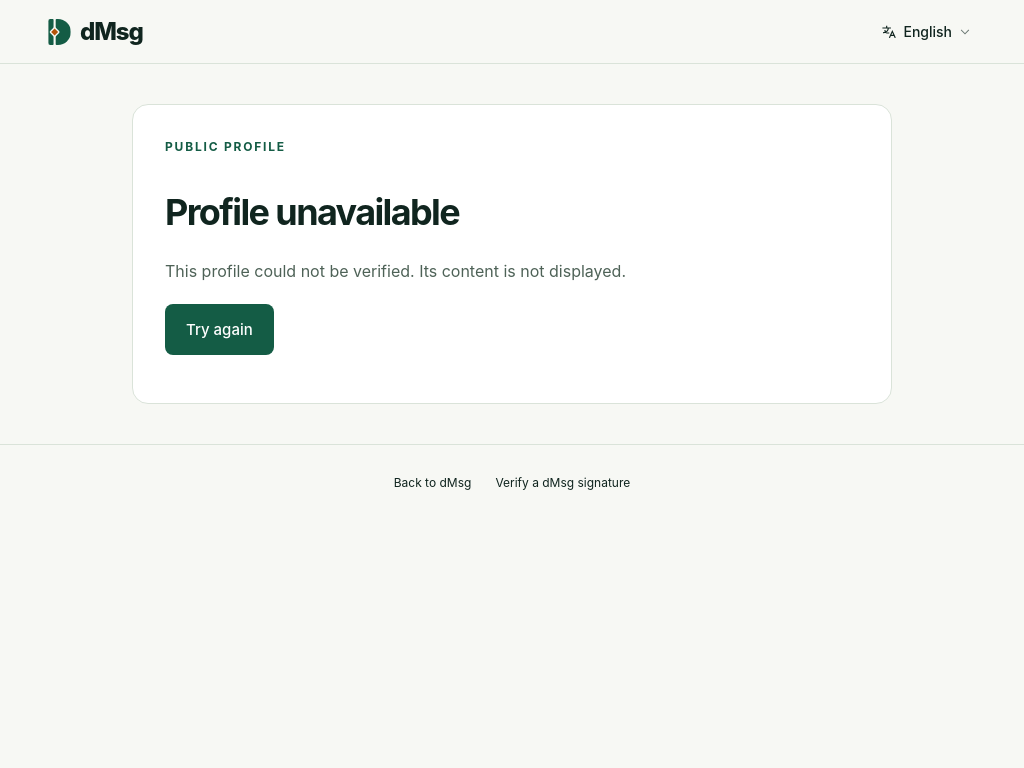
Scenario: hides failed verification and retries explicitly
This screenshot has width=1024, height=768.
Expected: the text "Alice" is not shown
Click the button "Try again". click: (219, 330)
box: x1=165 y1=304 x2=274 y2=355
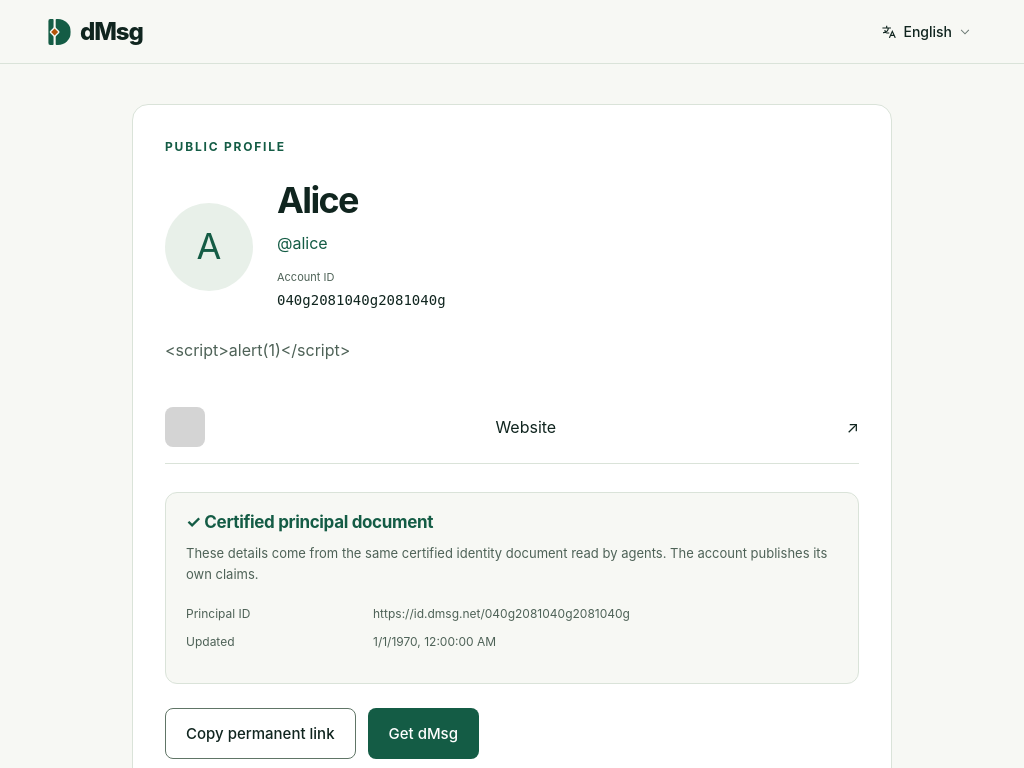
Expected: the text "Alice" is shown, x1=277 y1=178 x2=358 y2=222
